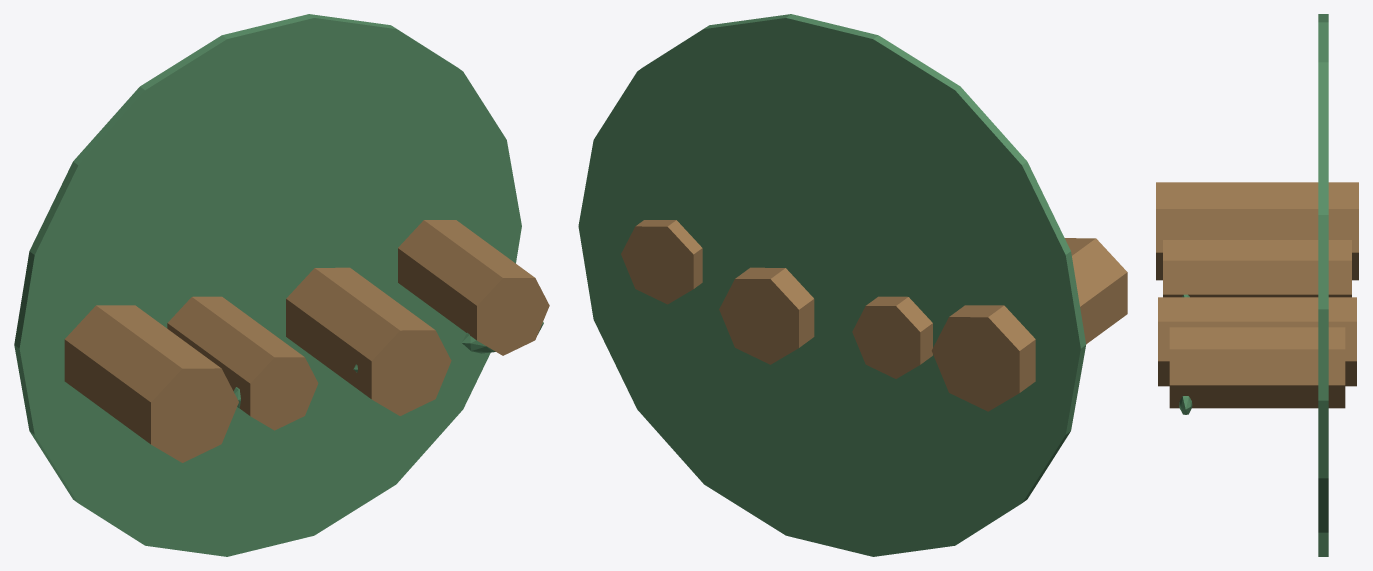
The model's file is 02_local_prop_cluster.glb.
The picture shows the model from 3 angles, left to right: view 1: azimuth 30°, elevation 25°; view 2: azimuth 150°, elevation 25°; view 3: azimuth 270°, elevation 25°; orthographic projection. The views are drawn at different scales.
Visible parts, largest first — view 1: scatter_base, root_stump_0, root_stump_2, root_stump_3, root_stump_1; view 2: scatter_base, root_stump_0, root_stump_2, root_stump_3, root_stump_1; view 3: root_stump_3, root_stump_0, root_stump_1, root_stump_2, scatter_base.
Boxes of the visible parts, box(x1,y1,x2,y2) form: scatter_base: box(14, 14, 521, 556); root_stump_0: box(64, 305, 238, 462); root_stump_2: box(286, 267, 451, 415); root_stump_3: box(398, 220, 549, 355); root_stump_1: box(167, 296, 318, 430); scatter_base: box(578, 14, 1085, 556); root_stump_0: box(931, 238, 1127, 411); root_stump_2: box(719, 267, 814, 364); root_stump_3: box(621, 220, 702, 304); root_stump_1: box(852, 296, 932, 378); root_stump_3: box(1169, 327, 1345, 408); root_stump_0: box(1156, 182, 1358, 280); root_stump_1: box(1163, 240, 1351, 297); root_stump_2: box(1158, 297, 1356, 386); scatter_base: box(1318, 14, 1328, 556).
Bounding box in the file's own units: 1.9 × 1.87 × 0.7068.
